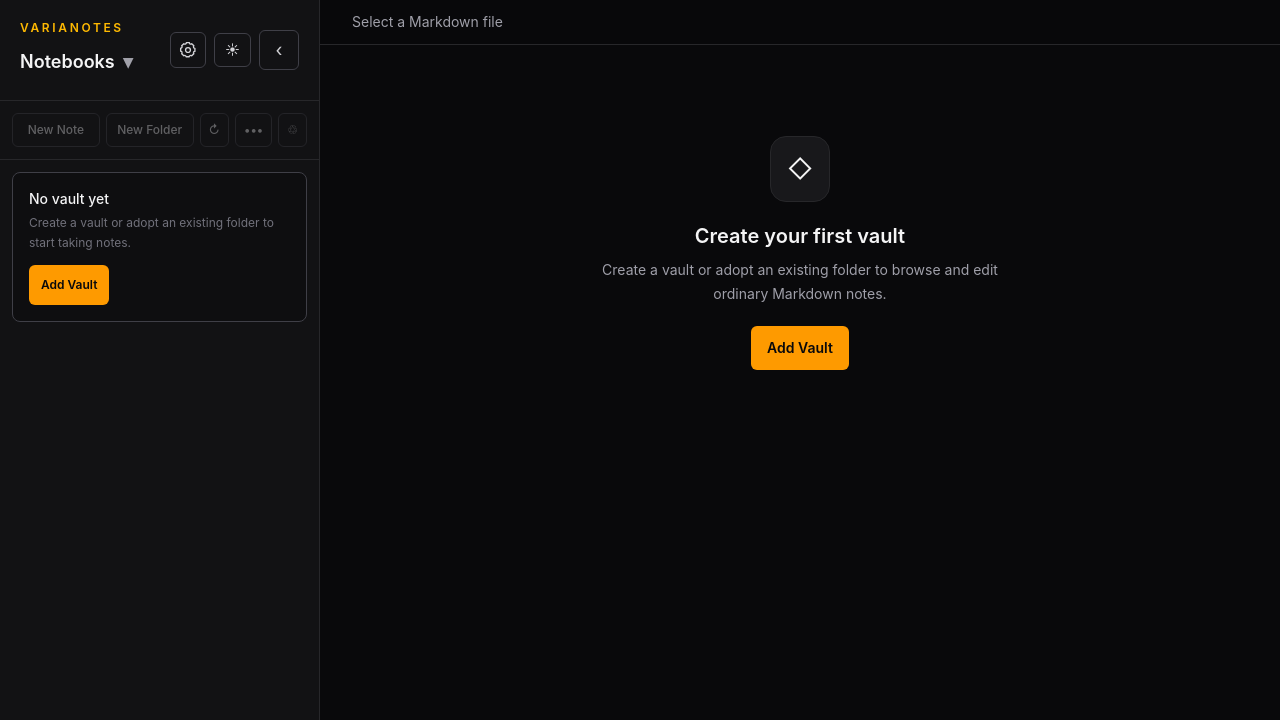
Test: App auto-lock integration › offers vault onboarding on a fresh installation
Expected: the heading "Create your first vault" is shown, [695, 222, 905, 250]
Expected: the text "No vault yet" is shown, [29, 190, 109, 207]
Click the button "Add Vault" below "No vault yet" at (69, 285), box [29, 265, 109, 305]
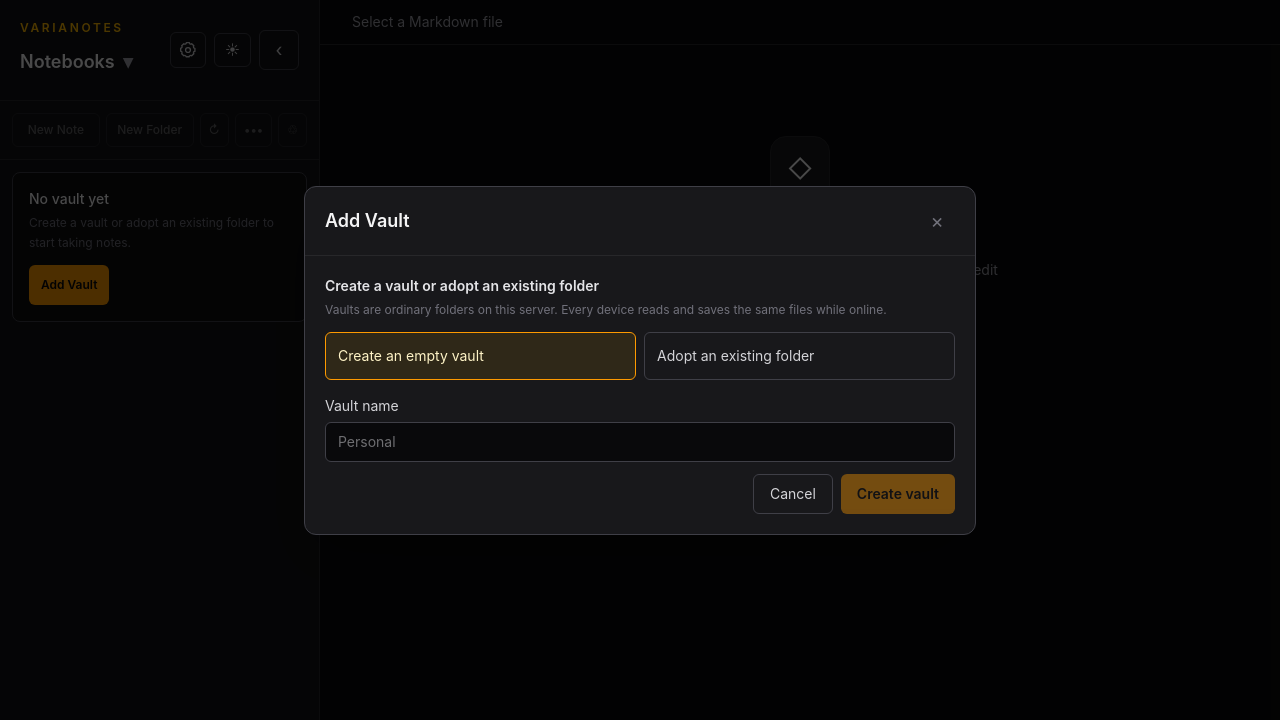
Result: the heading "Add Vault" is shown at [325, 206, 410, 234]
Result: the button "Create an empty vault" is shown at [325, 332, 636, 380]
